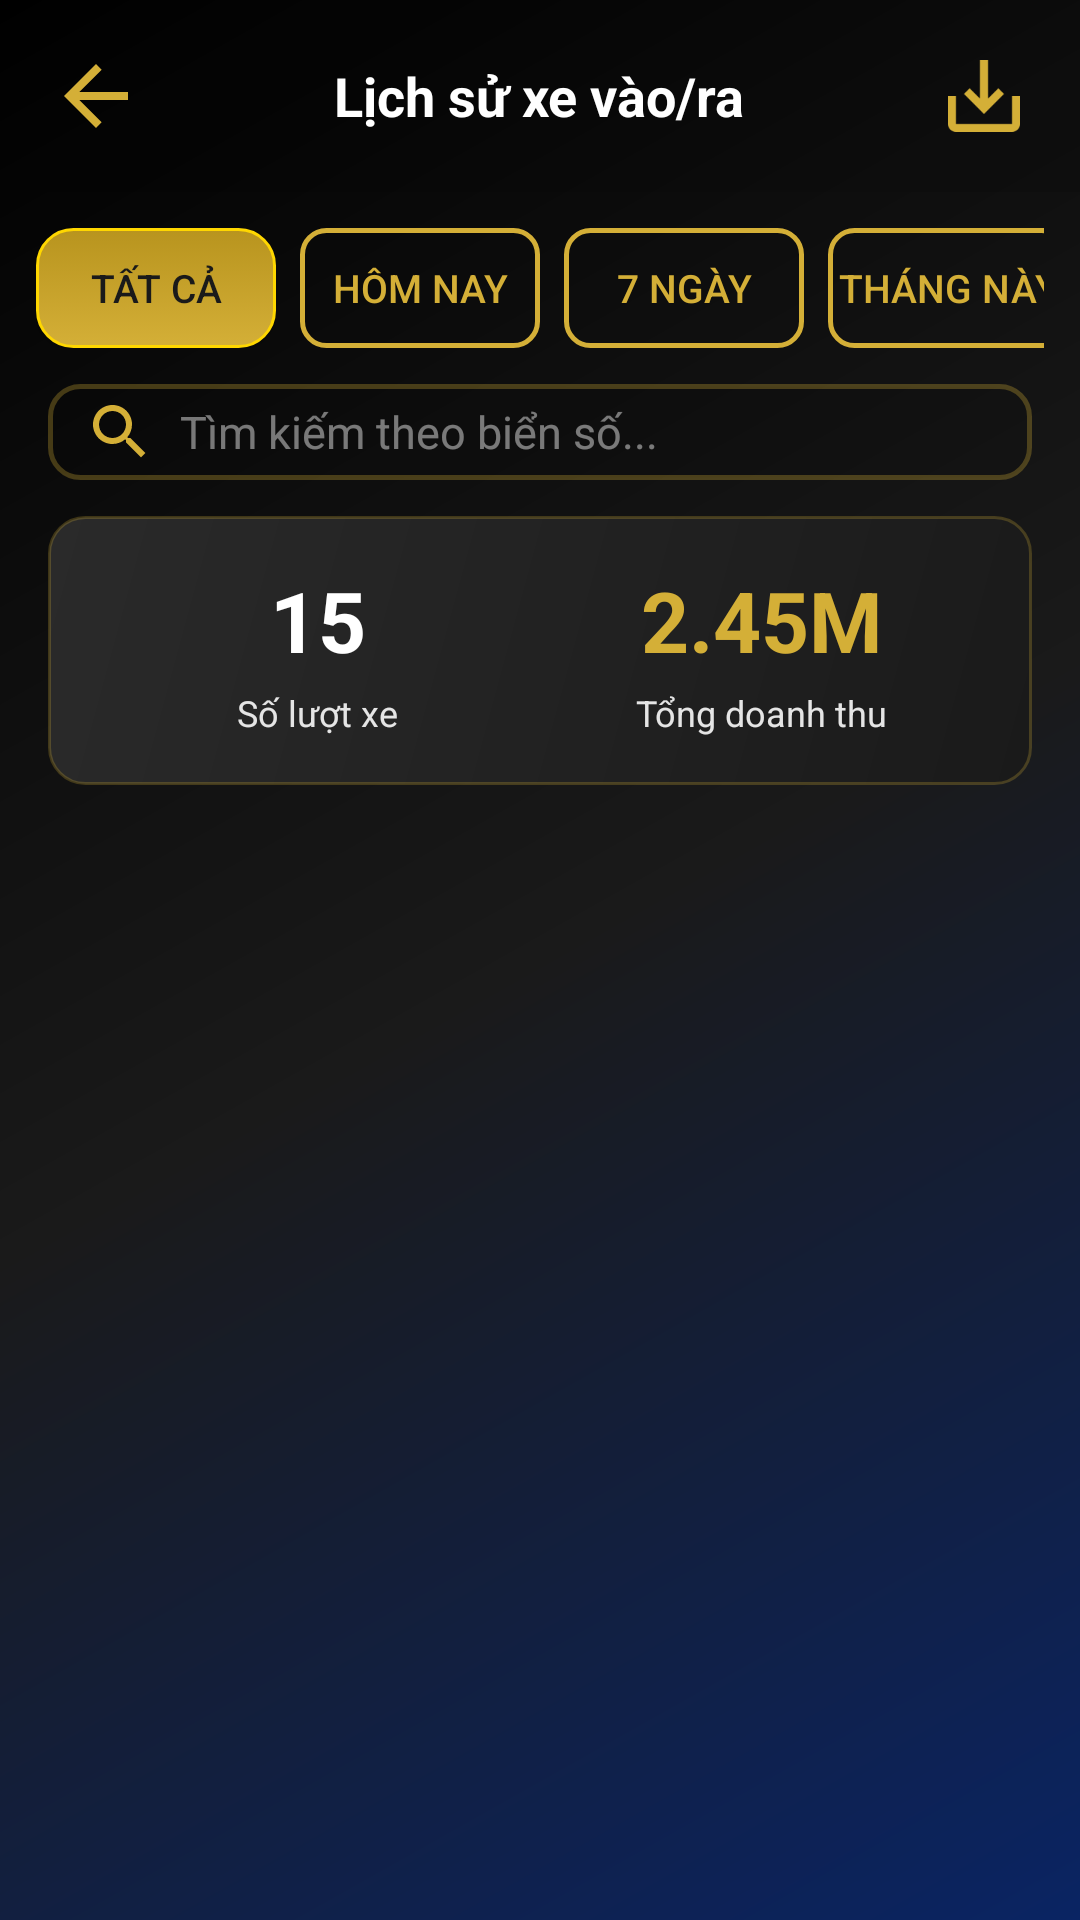

Icons on this 1080 x 1920 Android screen, each with the point to tap as [x,y]:
Back: [96,96]
Export: [984,96]
Search: [119,431]
